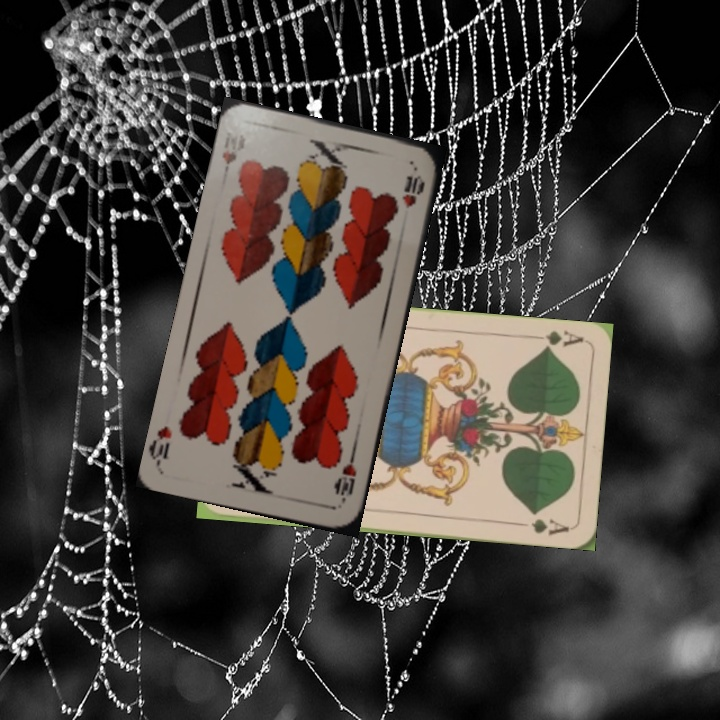GA: (527, 326, 586, 352)
H10: (331, 448, 360, 506), (217, 131, 248, 183)
